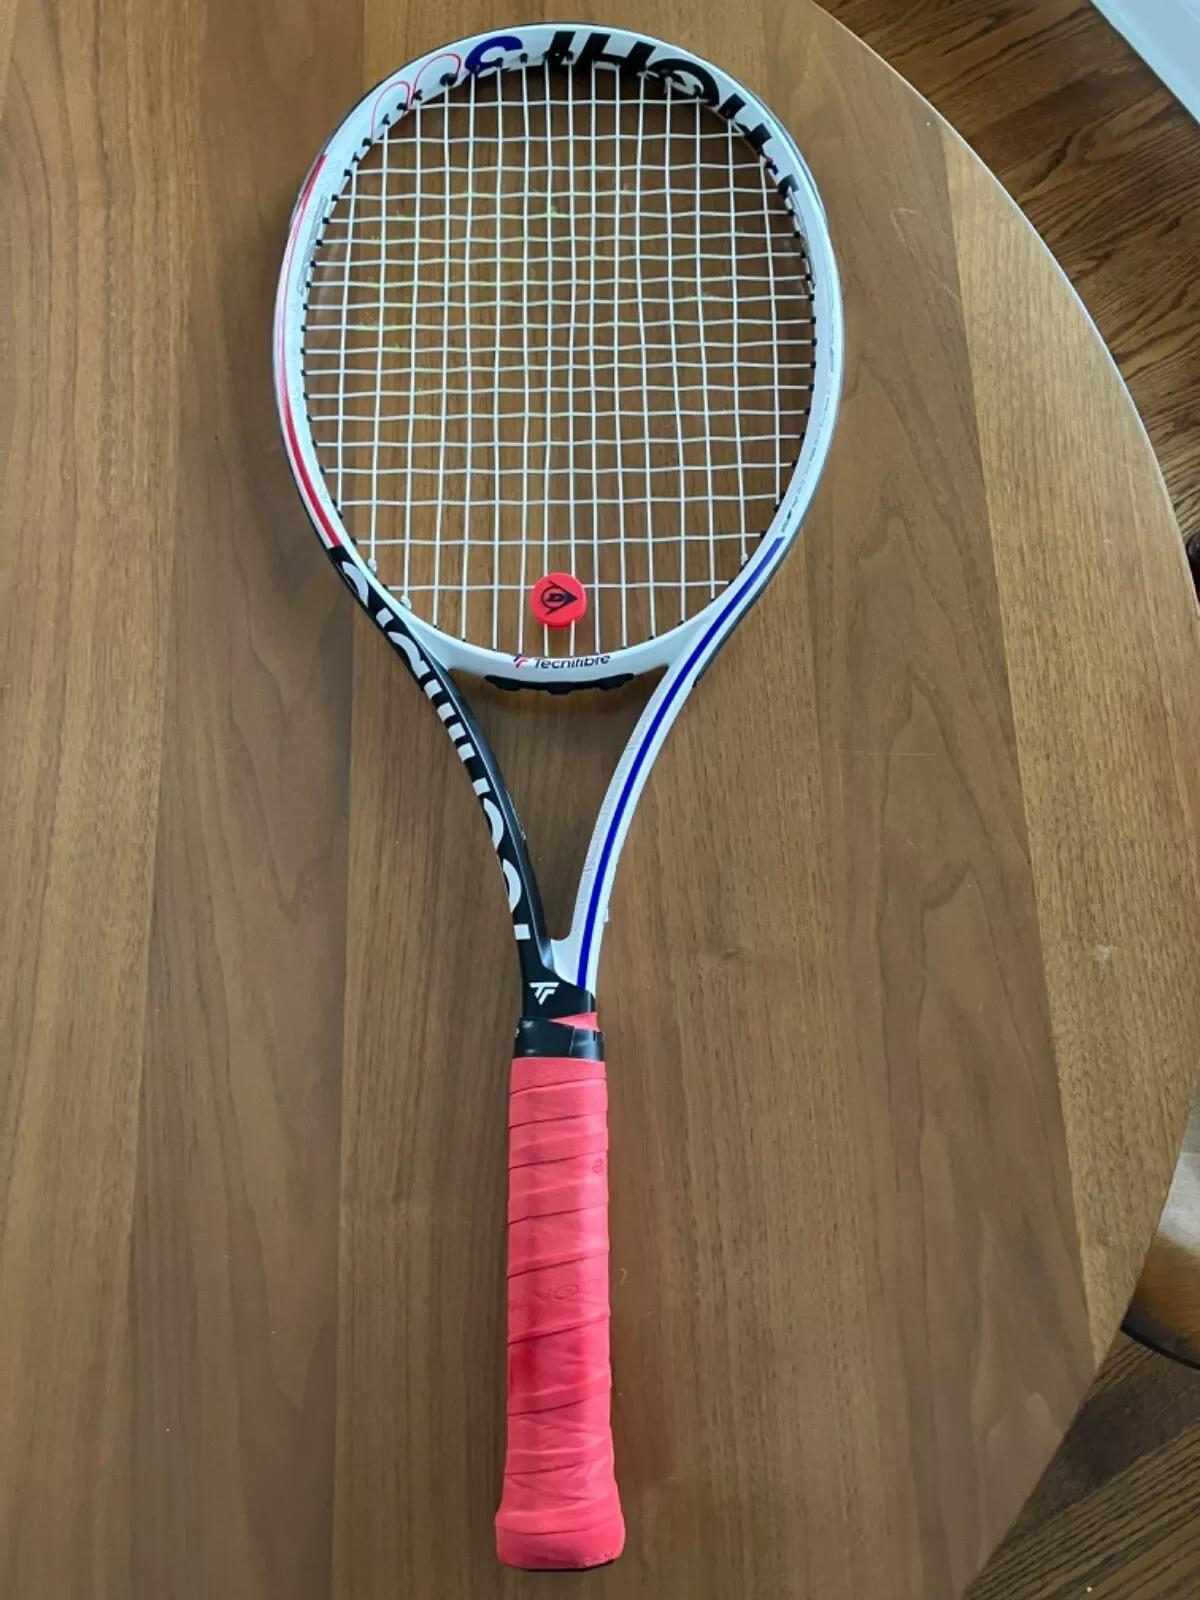Tennis-Racket: (275, 25, 845, 1572)
